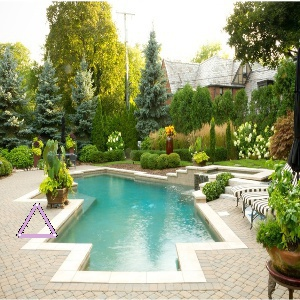triangle: (13, 200, 60, 240)
